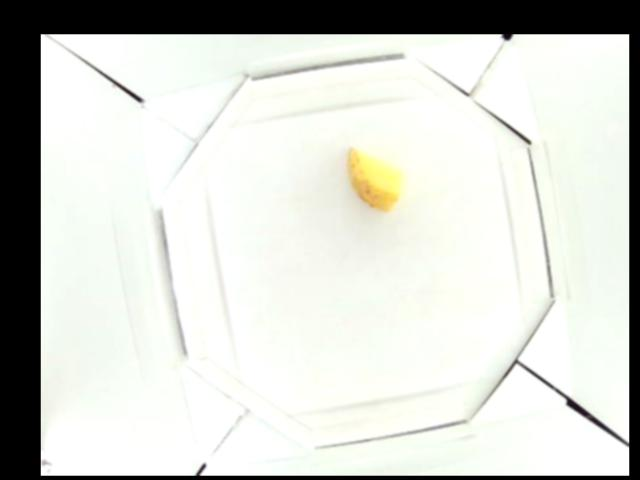Potato: (346, 145, 407, 212)
